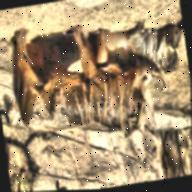boar: (0, 17, 158, 159), (120, 12, 188, 80)
